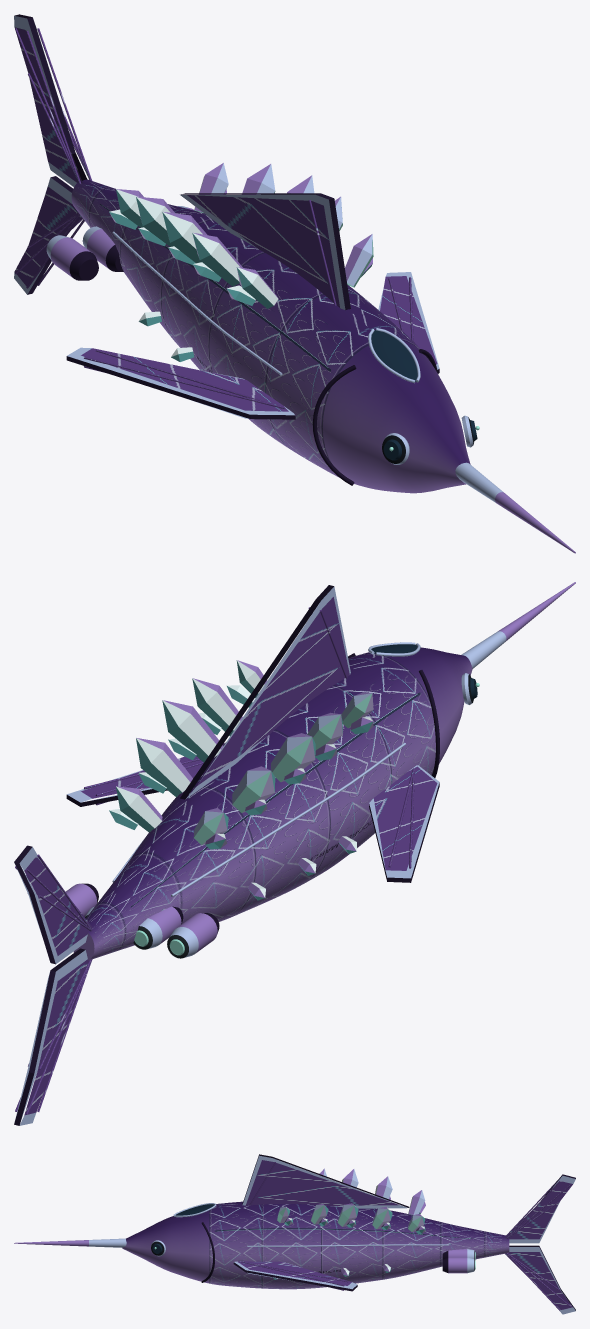
3 renders of one model, top to bottom at view 1: azimuth 30°, elevation 25°; view 2: azimuth 150°, elevation 25°; view 3: azimuth 270°, elevation 25°, orthographic. The views are drawn at different scales.
Visible parts, largest first — view 1: marlin_hull; view 2: marlin_hull; view 3: marlin_hull.
Boxes of the visible parts, x1=… form: marlin_hull: x1=14, y1=14, x2=575, y2=553; marlin_hull: x1=14, y1=582, x2=575, y2=1125; marlin_hull: x1=14, y1=1154, x2=575, y2=1314.
Size of the model in its own units: 29.91 by 26.23 by 84.
Materials: 1 (1 with a texture image).
